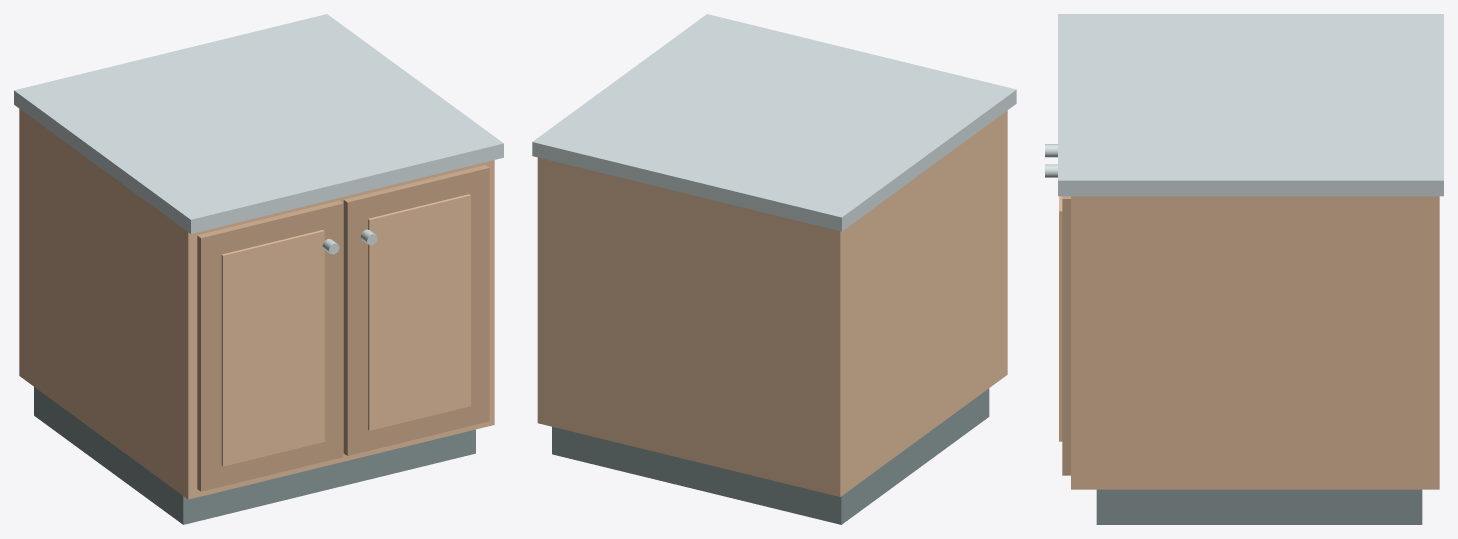
File: counterShaker.glb
3 views of the same model, side by side, from view 1: azimuth 30°, elevation 25°; view 2: azimuth 150°, elevation 25°; view 3: azimuth 270°, elevation 25° (orthographic). The views are drawn at different scales.
Visible parts, largest first — view 1: counterShaker; view 2: counterShaker; view 3: counterShaker.
Boxes of the visible parts, left/top/right/bottom form: counterShaker: left=14, top=14, right=503, bottom=524; counterShaker: left=532, top=14, right=1016, bottom=524; counterShaker: left=1045, top=14, right=1443, bottom=524.
Size of the model in its own units: 0.46 by 0.45 by 0.465.
